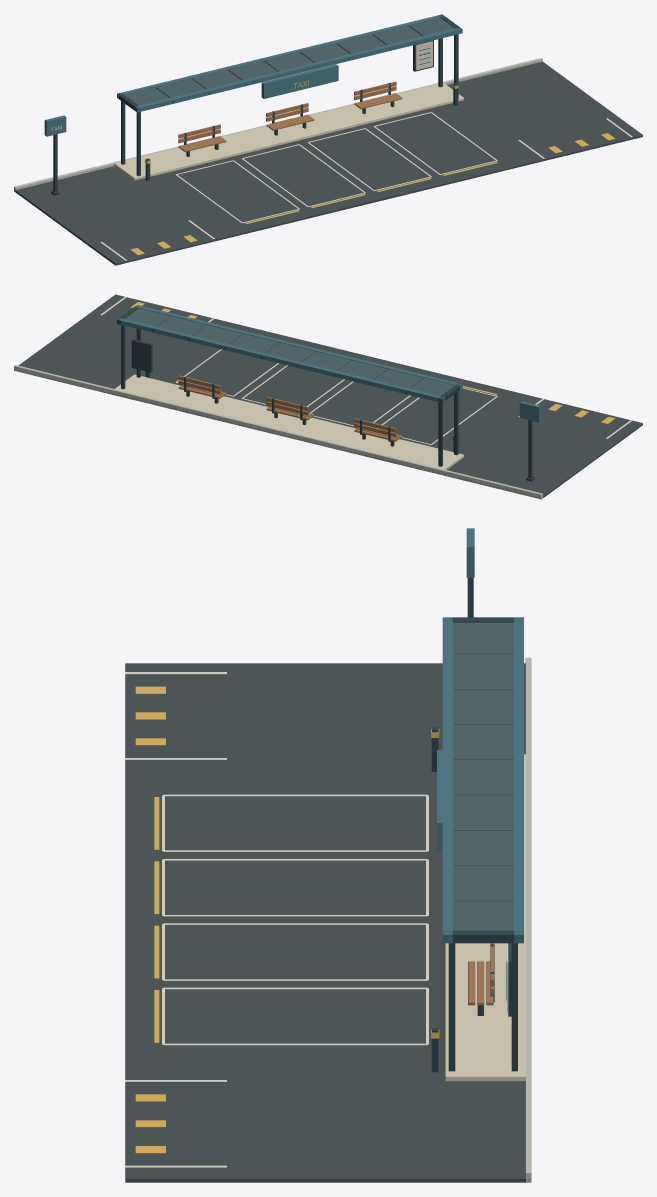
The model's file is taxi-stand-01.glb.
The picture shows the model from 3 angles, top to bottom: view 1: azimuth 30°, elevation 25°; view 2: azimuth 150°, elevation 25°; view 3: azimuth 270°, elevation 25°; orthographic projection. The views are drawn at different scales.
Visible parts, largest first — view 1: TaxiPaving, TaxiWaitingWalk, CanopyFascia, TaxiSignBoard, RearKerb, CanopyFascia.001, CanopyPanel.003, CanopyPanel.005, CanopyPanel.001, CanopyPanel.002, CanopyPanel.004, CanopyPanel.006 (+5 smaller); view 2: TaxiPaving, TaxiWaitingWalk, RearKerb, CanopyFascia.001, CanopyFascia, InformationCase, CanopyPanel.001, CanopyPanel.007, CanopyPanel.002, CanopyPanel.006, CanopyPanel.003, CanopyPanel.005 (+7 smaller); view 3: TaxiPaving, TaxiWaitingWalk, CanopyFascia, RearKerb, CanopyFascia.001, CanopyPanel.001, CanopyPanel.002, CanopyPanel.003, CanopyPanel.004, CanopyPanel.005, CanopyPanel.006, CanopyPanel.007 (+5 smaller).
Boxes of the visible parts, bbox=[...] form: TaxiPaving: bbox=[14, 61, 642, 265]; TaxiWaitingWalk: bbox=[114, 83, 463, 180]; CanopyFascia: bbox=[136, 27, 462, 112]; TaxiSignBoard: bbox=[261, 64, 338, 98]; RearKerb: bbox=[14, 58, 542, 191]; CanopyFascia.001: bbox=[117, 14, 443, 98]; CanopyPanel.003: bbox=[228, 61, 277, 80]; CanopyPanel.005: bbox=[300, 43, 349, 62]; CanopyPanel.001: bbox=[156, 78, 205, 97]; CanopyPanel.002: bbox=[192, 70, 241, 89]; CanopyPanel.004: bbox=[264, 52, 313, 71]; CanopyPanel.006: bbox=[337, 34, 386, 53]; TaxiPaving: bbox=[14, 294, 642, 499]; TaxiWaitingWalk: bbox=[115, 374, 463, 469]; RearKerb: bbox=[14, 365, 542, 499]; CanopyFascia.001: bbox=[117, 318, 444, 402]; CanopyFascia: bbox=[135, 305, 462, 389]; InformationCase: bbox=[131, 339, 152, 372]; CanopyPanel.001: bbox=[374, 369, 423, 388]; CanopyPanel.007: bbox=[157, 316, 206, 335]; CanopyPanel.002: bbox=[338, 360, 387, 379]; CanopyPanel.006: bbox=[193, 325, 242, 344]; CanopyPanel.003: bbox=[301, 351, 351, 370]; CanopyPanel.005: bbox=[229, 334, 278, 353]; TaxiPaving: bbox=[125, 663, 531, 1182]; TaxiWaitingWalk: bbox=[445, 754, 525, 1081]; CanopyFascia: bbox=[442, 617, 452, 943]; RearKerb: bbox=[525, 657, 531, 1182]; CanopyFascia.001: bbox=[514, 617, 523, 943]; CanopyPanel.001: bbox=[453, 654, 513, 689]; CanopyPanel.002: bbox=[453, 689, 513, 724]; CanopyPanel.003: bbox=[453, 724, 513, 759]; CanopyPanel.004: bbox=[453, 760, 513, 795]; CanopyPanel.005: bbox=[453, 795, 513, 830]; CanopyPanel.006: bbox=[453, 830, 513, 865]; CanopyPanel.007: bbox=[453, 866, 513, 901].
Size of the model in its own units: 24 by 3.38 by 8.
